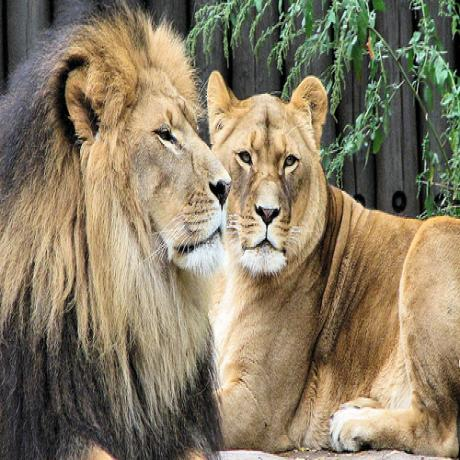Lion: (0, 0, 233, 460), (203, 69, 460, 459)
